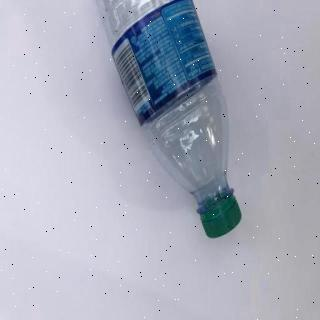Plastic-bottle: (90, 1, 243, 239)
